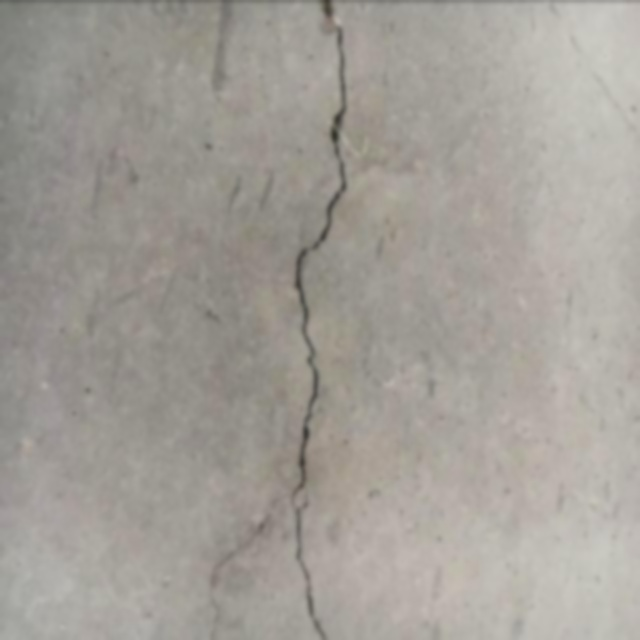SurfaceCrack: (186, 0, 385, 640)
